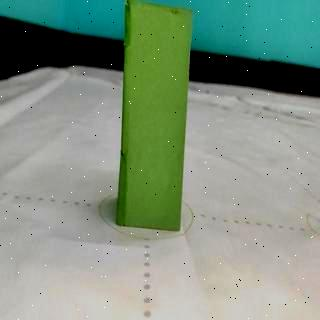greenbox: (119, 0, 194, 231)
